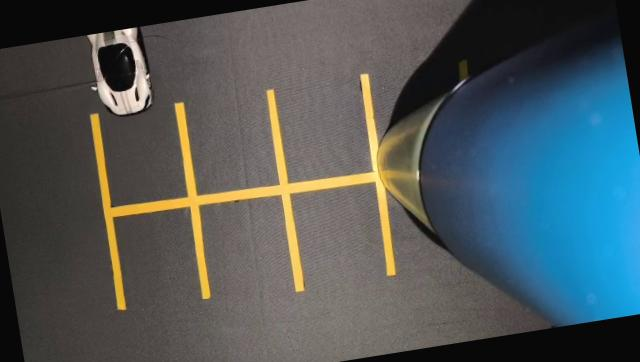toy_car: (74, 22, 181, 135)
